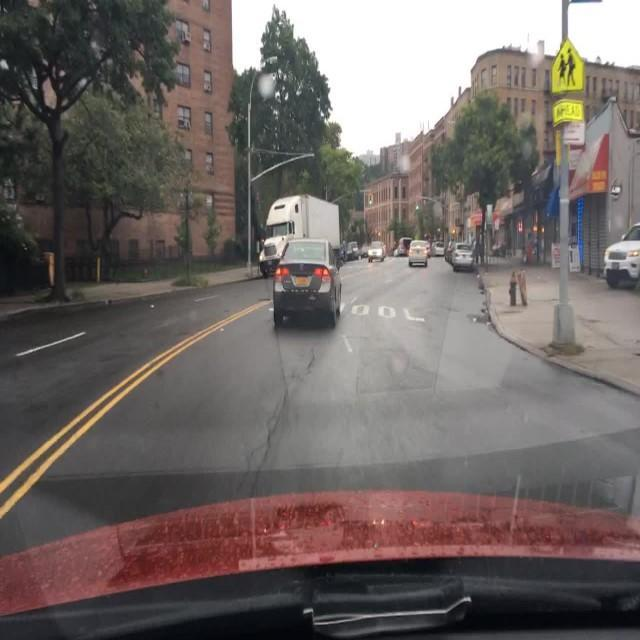normal: (250, 163, 397, 340)
